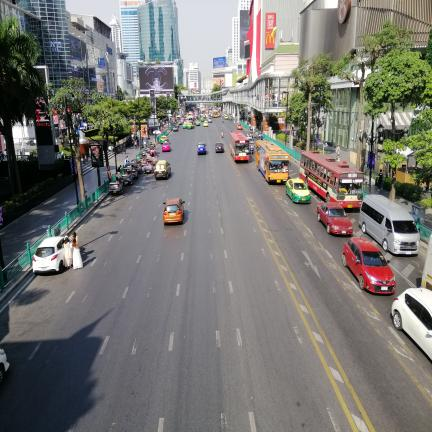bus: (300, 151, 364, 208), (255, 140, 290, 183), (230, 131, 250, 161), (213, 109, 218, 118), (421, 240, 421, 241)
car: (342, 237, 395, 293), (391, 288, 432, 360), (32, 236, 65, 274), (317, 202, 353, 234), (163, 198, 184, 225), (197, 143, 206, 155), (215, 142, 224, 153), (172, 125, 178, 131), (207, 117, 212, 122)
human: (72, 231, 83, 269), (64, 236, 72, 268), (378, 170, 384, 191), (124, 156, 130, 166), (336, 144, 340, 157)
motorbike: (109, 173, 124, 194), (121, 167, 134, 186), (128, 162, 138, 178), (131, 158, 142, 172), (144, 158, 153, 173), (150, 151, 157, 164), (221, 132, 223, 138)
taxi: (286, 178, 311, 203), (154, 160, 171, 179), (162, 141, 171, 152), (160, 135, 168, 143), (187, 123, 195, 129), (237, 123, 243, 130), (195, 120, 200, 126), (183, 122, 188, 128), (203, 121, 208, 126), (224, 115, 228, 120)
van: (359, 195, 420, 255)
